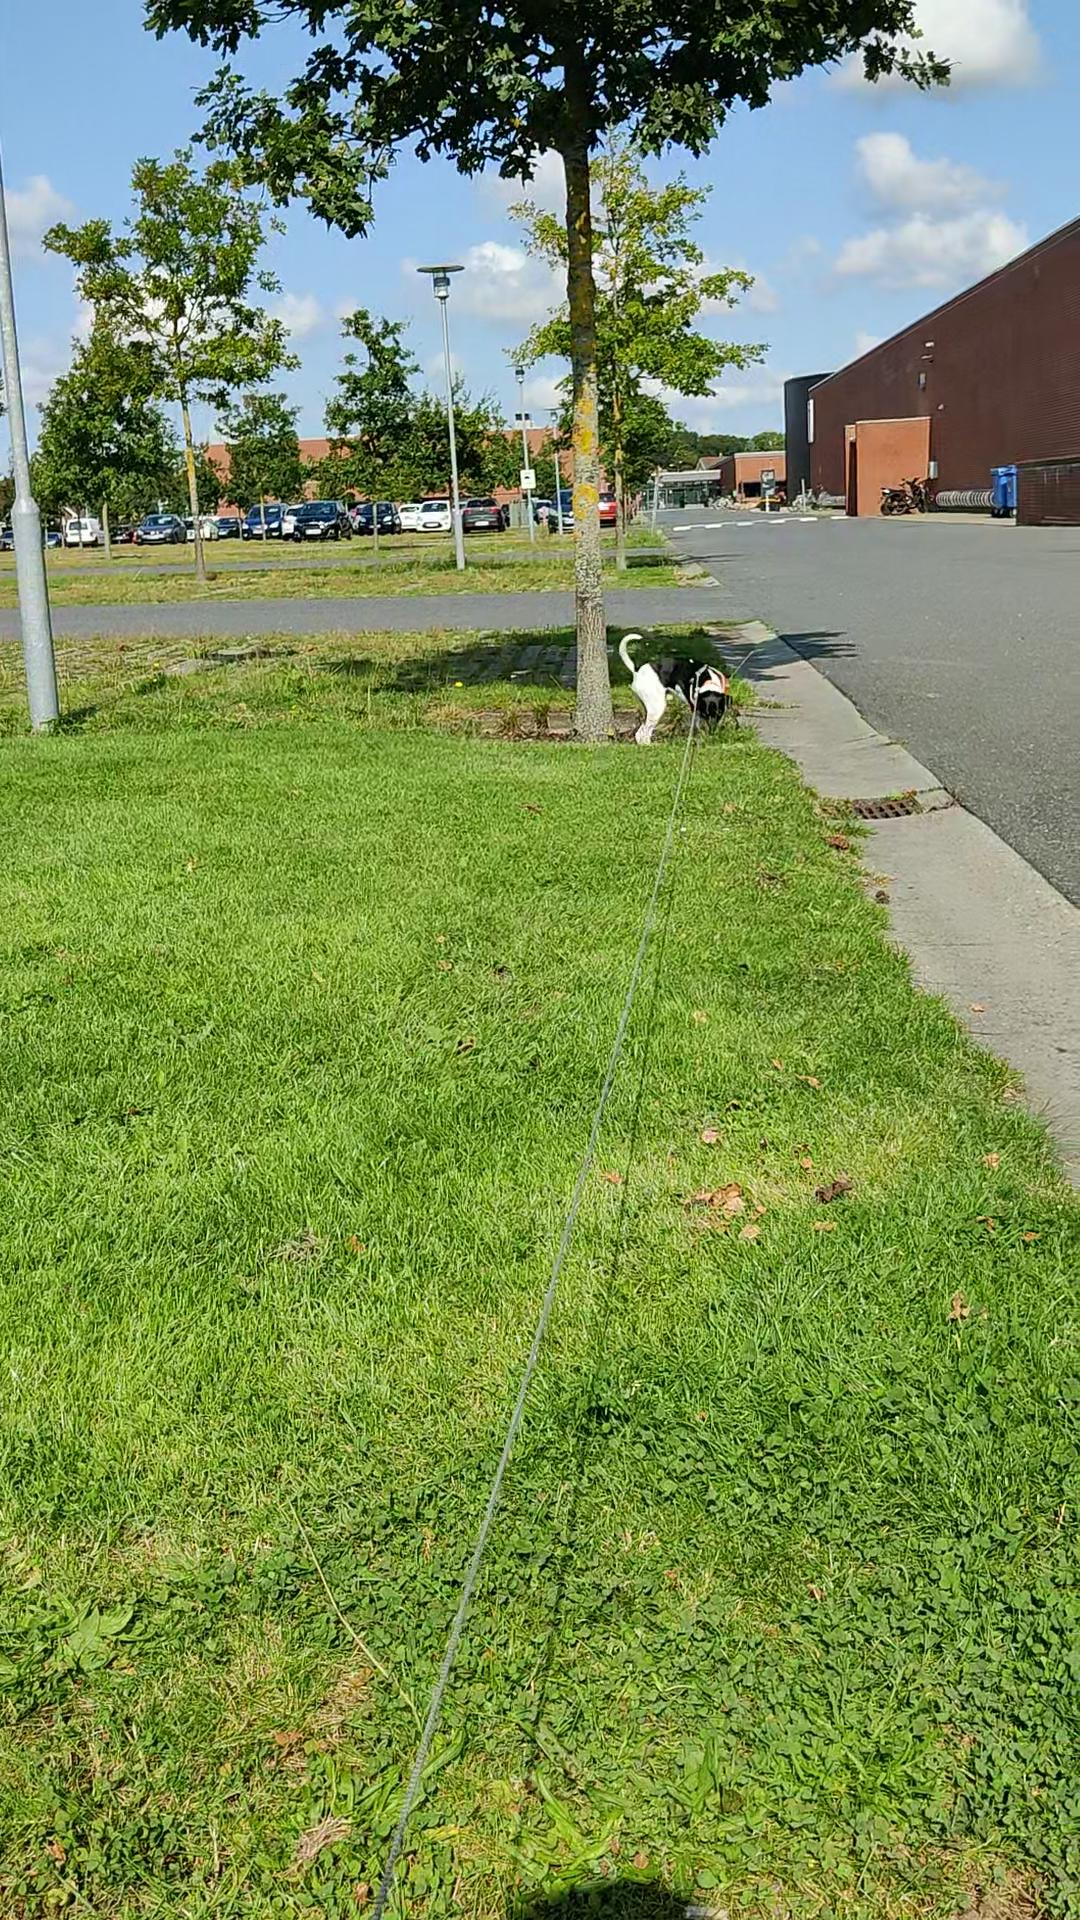Dog: (617, 632, 733, 745)
